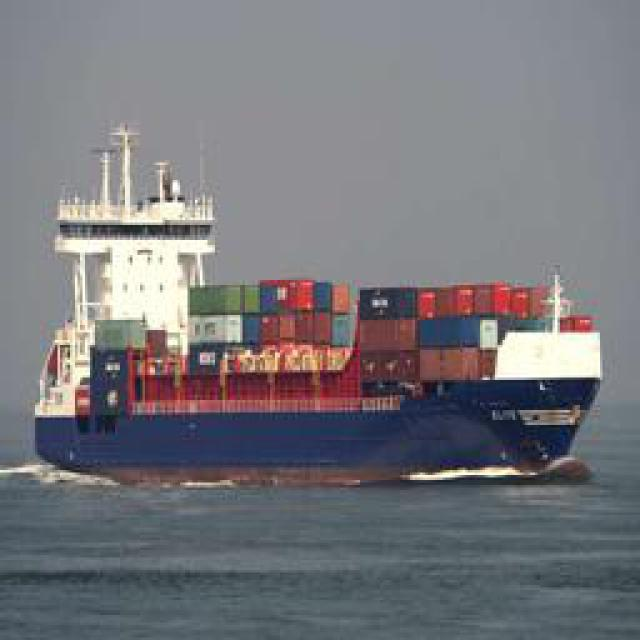Ship: (26, 273, 614, 488)
